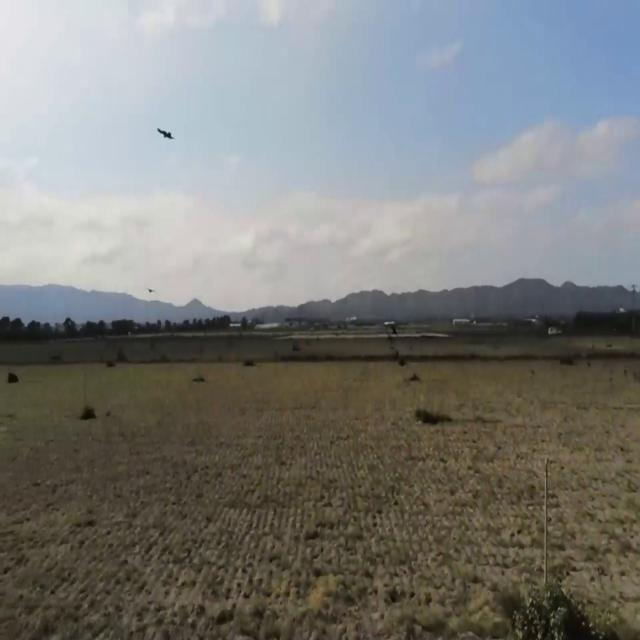bird: (156, 115, 174, 154), (146, 279, 155, 299)
